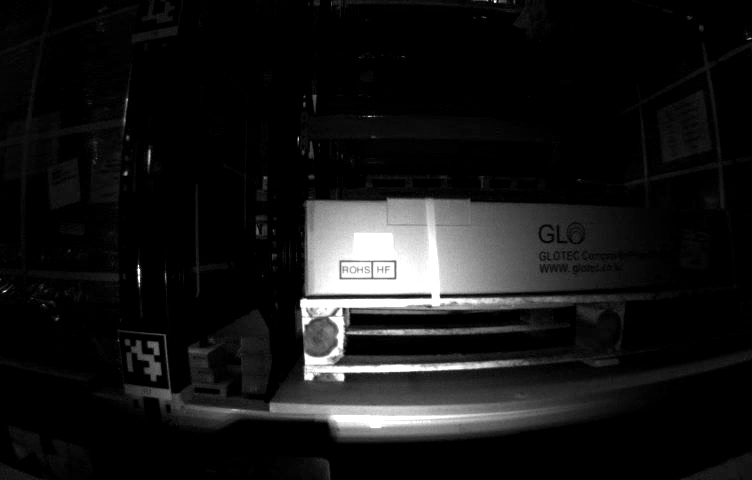True Barcode: (89, 163, 120, 202)
